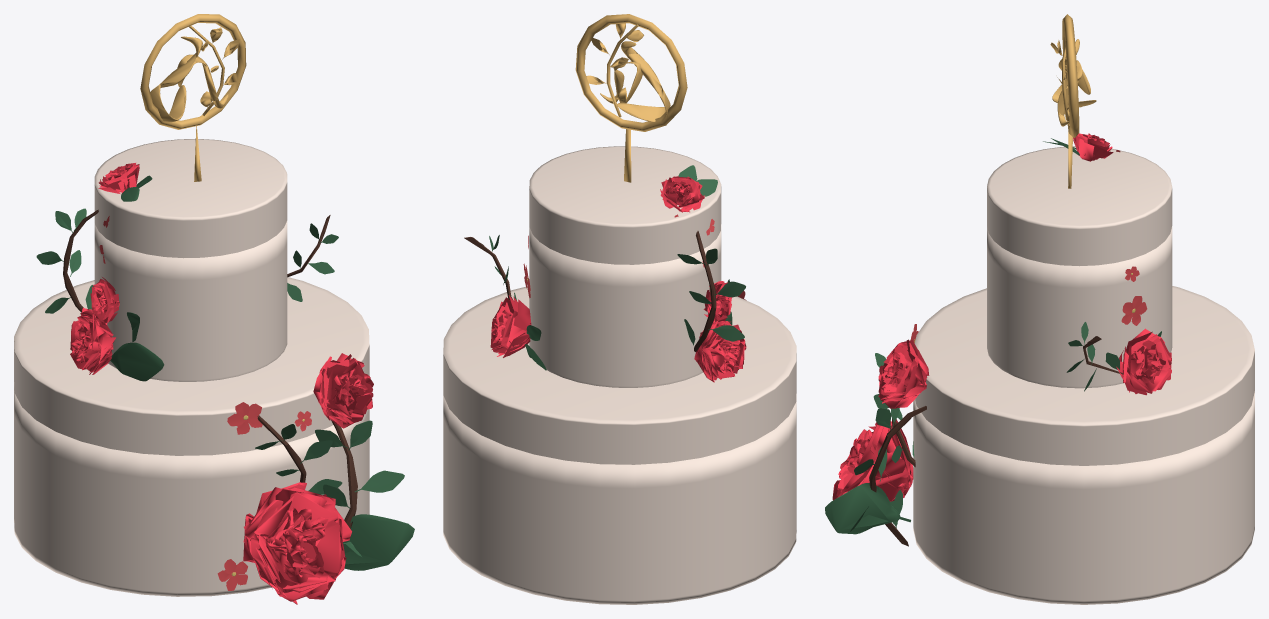
The model's file is 2-tier-white-roses-ring.glb.
3 renders of one model, left to right at view 1: azimuth 30°, elevation 25°; view 2: azimuth 150°, elevation 25°; view 3: azimuth 270°, elevation 25°, orthographic.
Parts seen in each view (by area): view 1: Cylinder.023, Cylinder.013, grid.025, Cylinder.011, grid.024, Plane.049, Plane.059, grid.026, Plane.056, Plane.058, Plane.052, Plane.045 (+4 smaller); view 2: Cylinder.023, Cylinder.013, Cylinder.011, grid.026, Plane.056, grid.028, grid.014, grid.027, Plane.045; view 3: Cylinder.023, Cylinder.013, grid.025, Cylinder.011, grid.028, Plane.049, grid.024, Plane.059, Plane.045, grid.014, Plane.058.
Boxes of the visible parts, x1,y1,x2,y2 form: Cylinder.023: (14, 277, 369, 596); Cylinder.013: (94, 139, 287, 381); grid.025: (243, 482, 352, 604); Cylinder.011: (140, 14, 246, 181); grid.024: (313, 353, 373, 428); Plane.049: (343, 514, 414, 570); Plane.059: (315, 420, 404, 556); grid.026: (70, 307, 116, 374); Plane.056: (36, 208, 98, 313); Plane.058: (255, 415, 342, 494); Plane.052: (110, 342, 164, 381); Plane.045: (287, 215, 338, 301); Cylinder.023: (443, 286, 796, 604); Cylinder.013: (529, 146, 721, 387); Cylinder.011: (575, 14, 687, 182); grid.026: (694, 321, 746, 382); Plane.056: (677, 231, 745, 351); grid.028: (490, 295, 531, 357); grid.014: (660, 176, 704, 212); grid.027: (703, 281, 732, 326); Plane.045: (464, 235, 516, 300); Cylinder.023: (913, 286, 1254, 604); Cylinder.013: (987, 146, 1172, 388); grid.025: (832, 419, 913, 501); Cylinder.011: (1050, 14, 1096, 188); grid.028: (1116, 328, 1171, 395); Plane.049: (825, 483, 910, 534); grid.024: (878, 339, 929, 408); Plane.059: (850, 406, 926, 546); Plane.045: (1066, 322, 1123, 391); grid.014: (1073, 133, 1113, 161); Plane.058: (873, 353, 915, 467).
Size of the model in its own units: 3.4 by 5.49 by 4.11.
